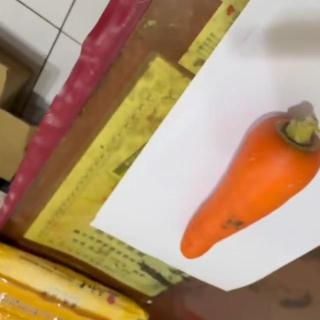carrot: (177, 110, 320, 259)
